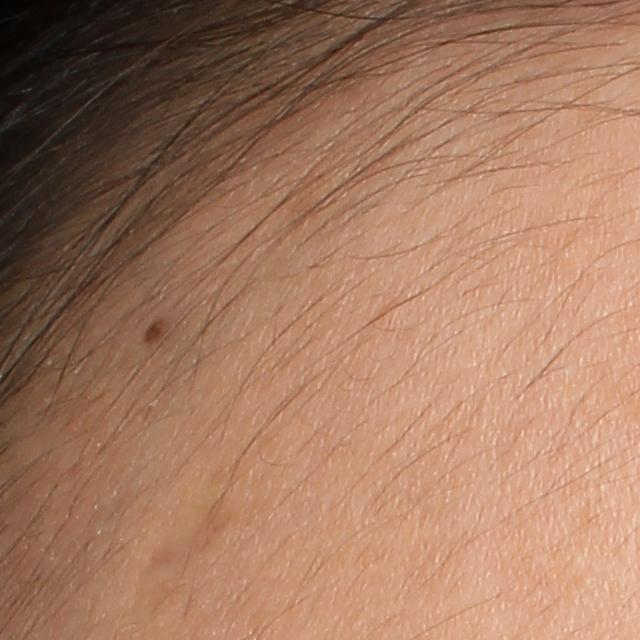nevus: (144, 316, 167, 345)
